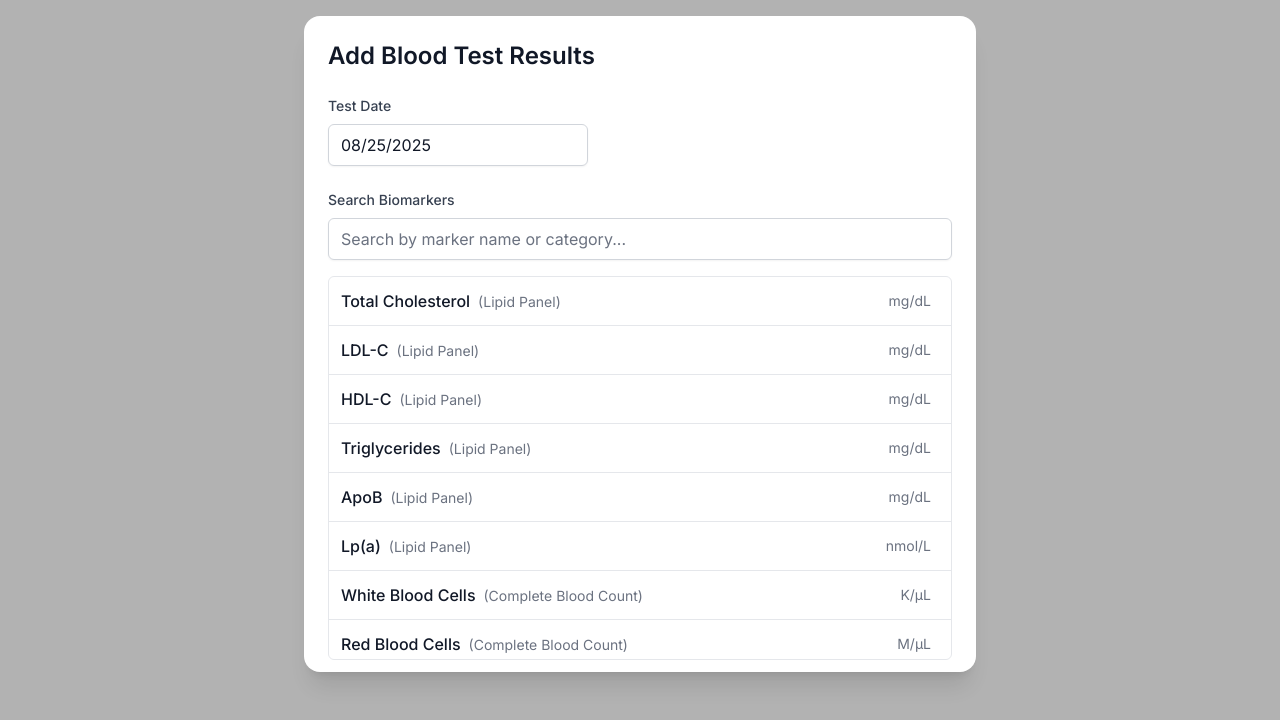
Test: AddResultsModal › enables Next button when markers selected
This screenshot has width=1280, height=720.
Click the text "Total Cholesterol" at (451, 301), box [341,289,561,313]
(page scrolled)
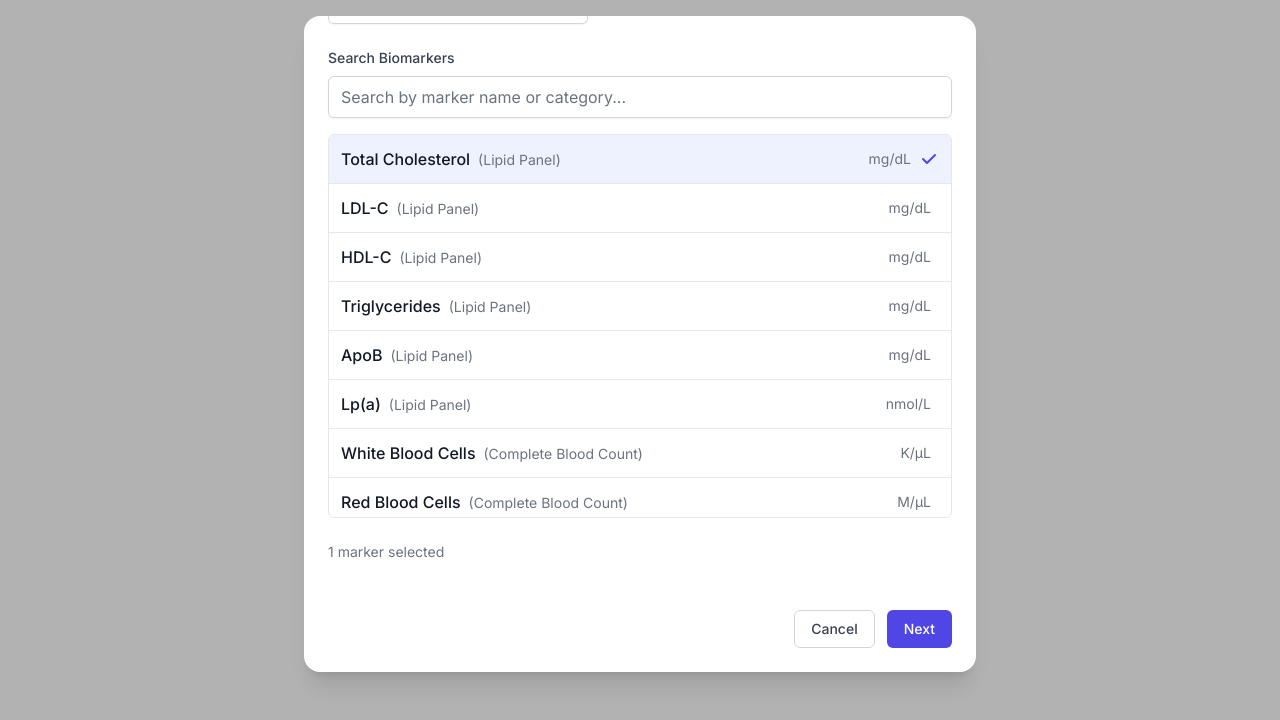
Expected: the button "Next" is enabled, [887,610,952,648]
